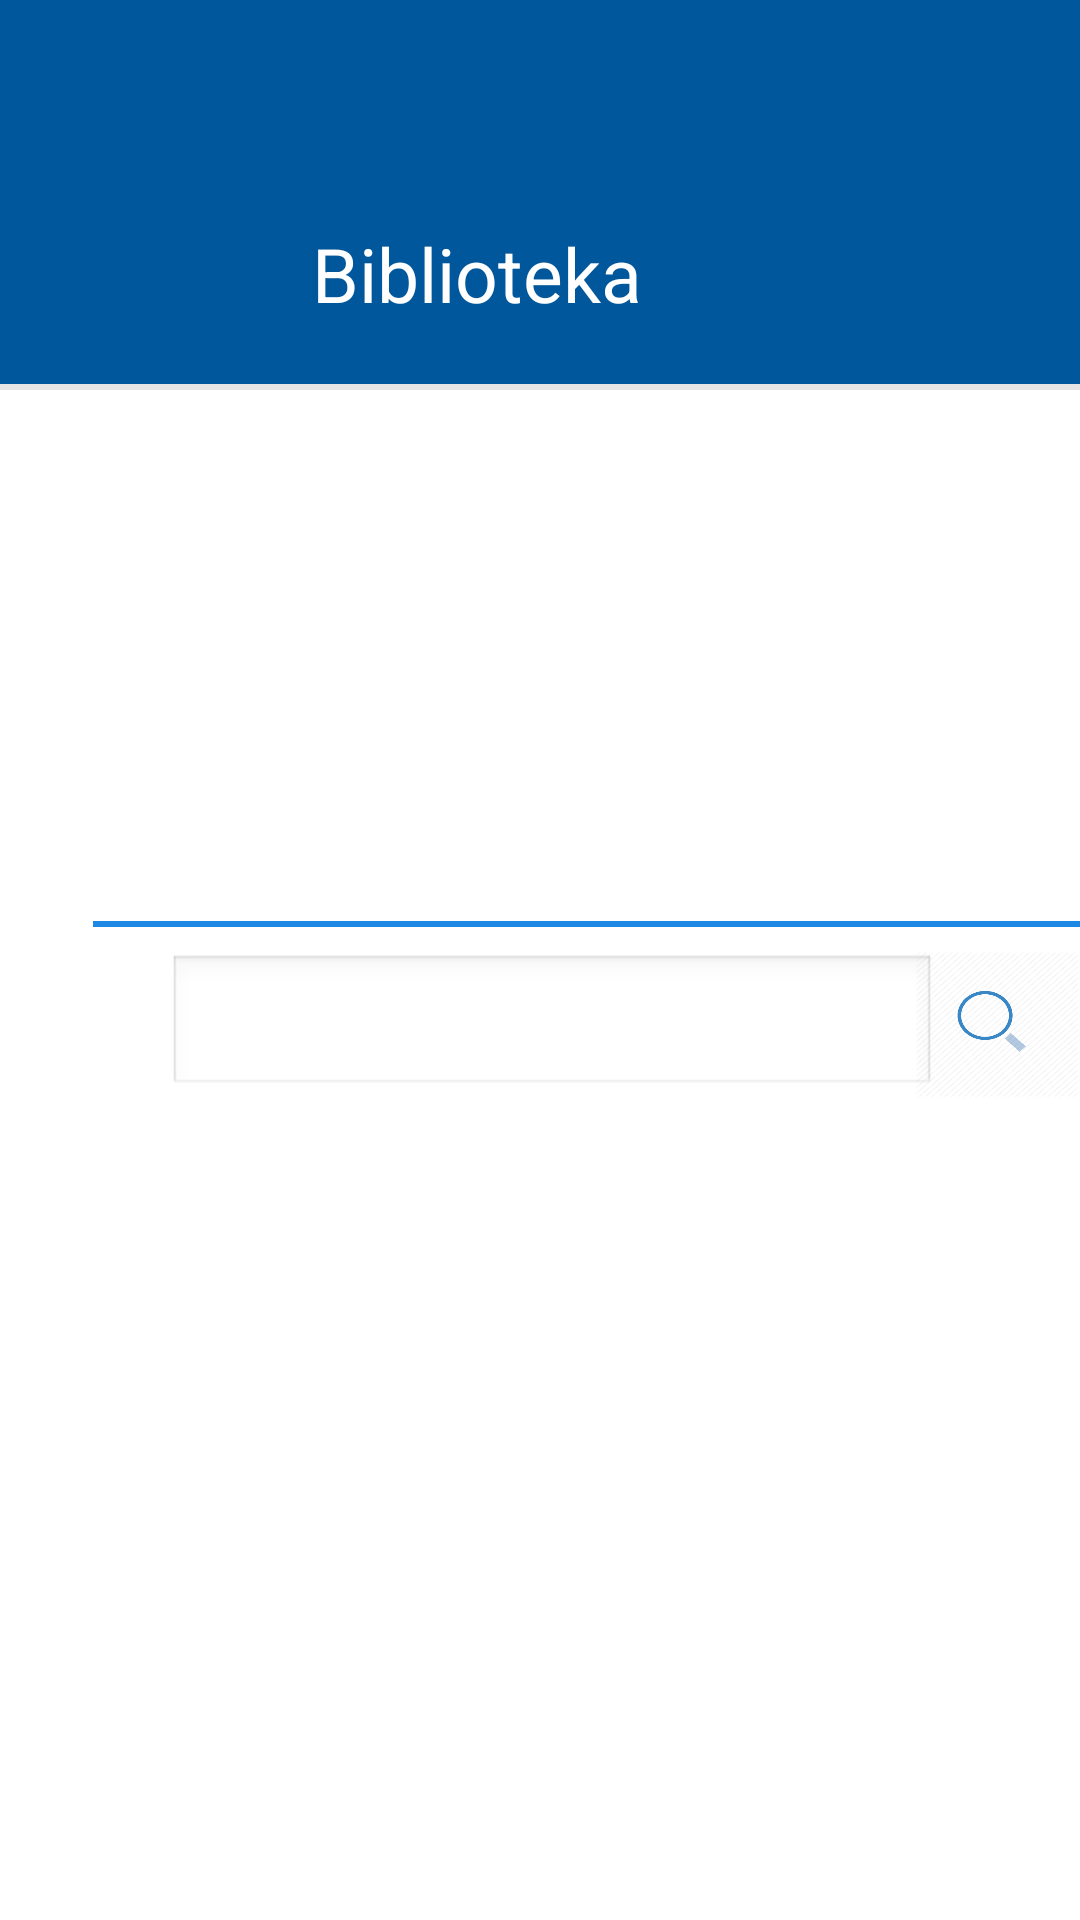

Named icons in this screenshot (1080x1920) and their bounding boxes, (x1, y1, x2, y2):
search: (924, 991, 1026, 1081)
